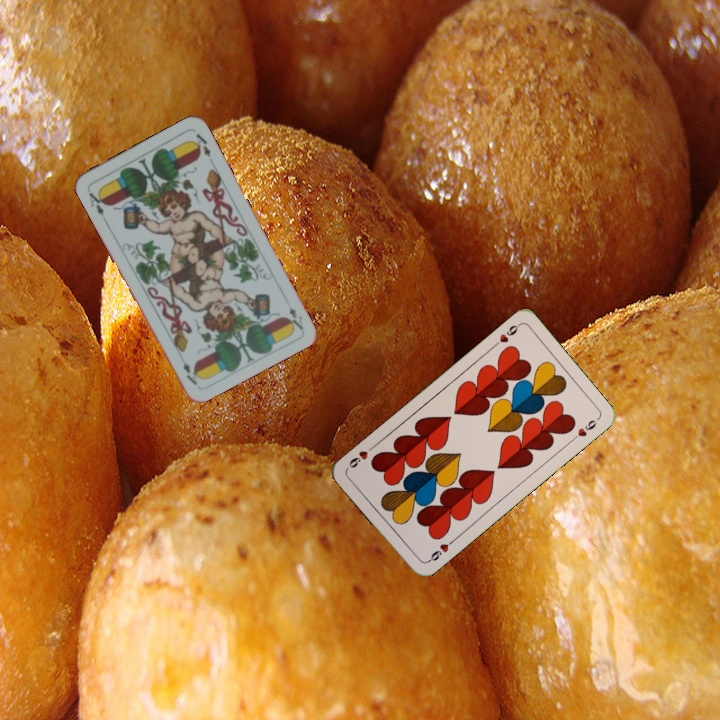EA: (281, 295, 306, 333), (85, 186, 109, 223)
H9: (422, 536, 457, 566), (489, 320, 523, 350)
